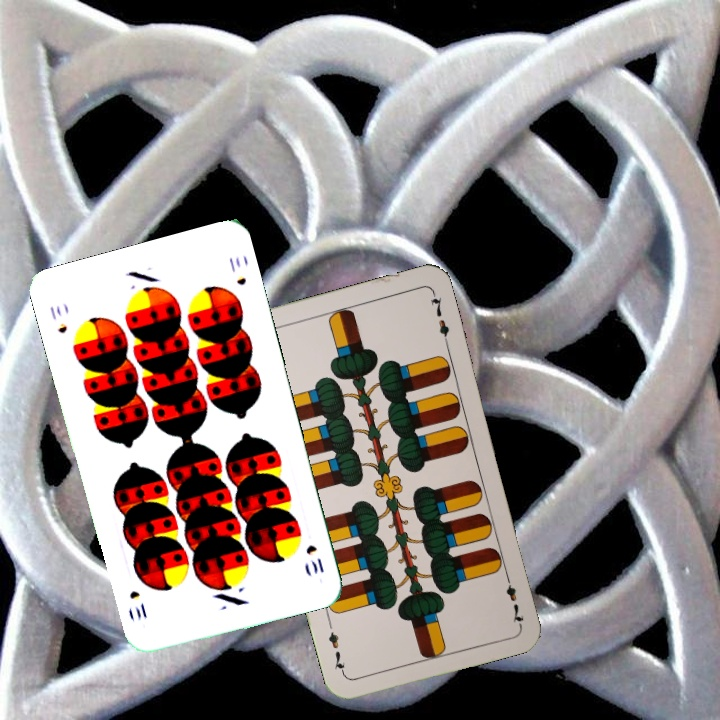E7: (501, 569, 526, 627)
S10: (302, 540, 326, 577), (45, 301, 70, 336)
